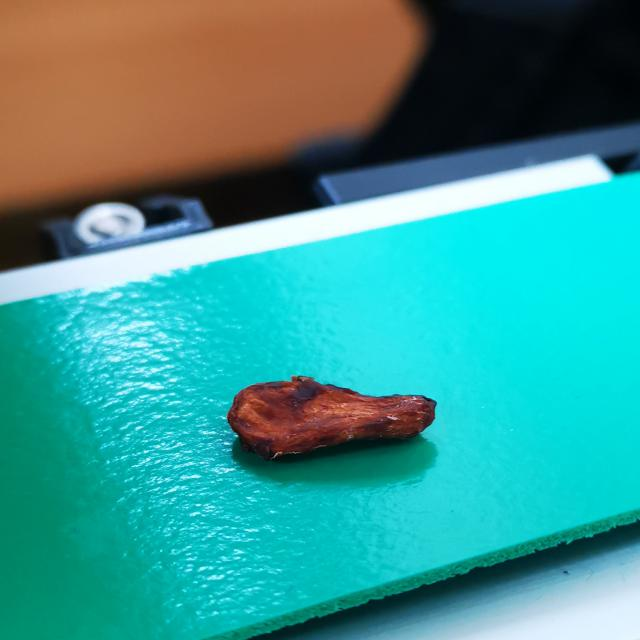Flat_cocoabeans: (164, 317, 522, 539)
